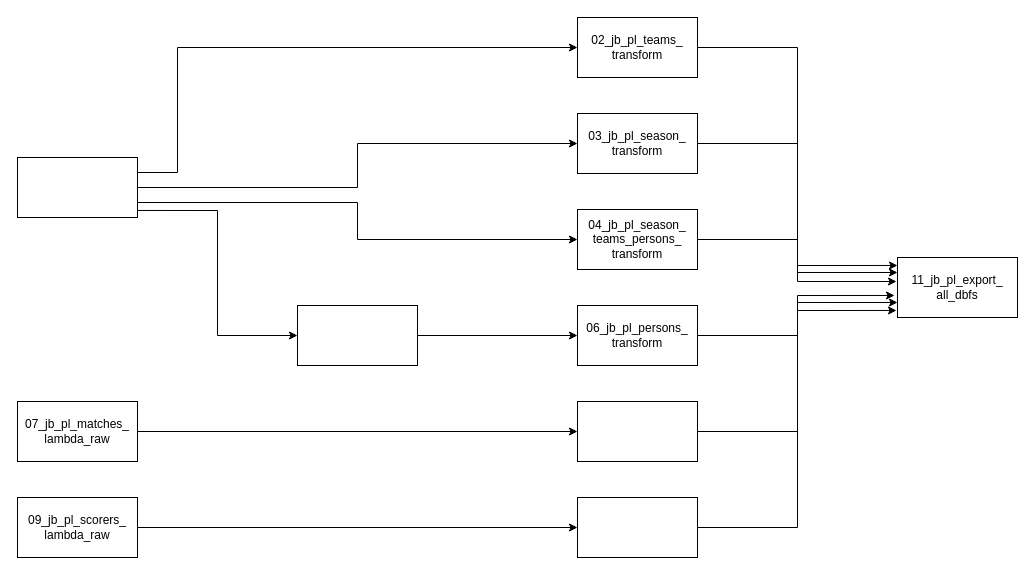
This 1035x575 diagram has some shape labels left out. Each missing label, with the box of its shape:
01_jb_pl_teams_ lambda_raw: (16, 156, 138, 218)
05_jb_pl_person_ raw: (296, 304, 418, 366)
08_jb_pl_matches_ transform: (576, 400, 698, 462)
10_jb_pl_scorers_ transform: (576, 496, 698, 558)
